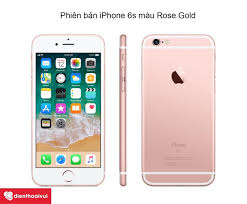iphone: (137, 29, 218, 189), (29, 29, 110, 189)
iphone6: (27, 30, 108, 190), (137, 31, 218, 191)
